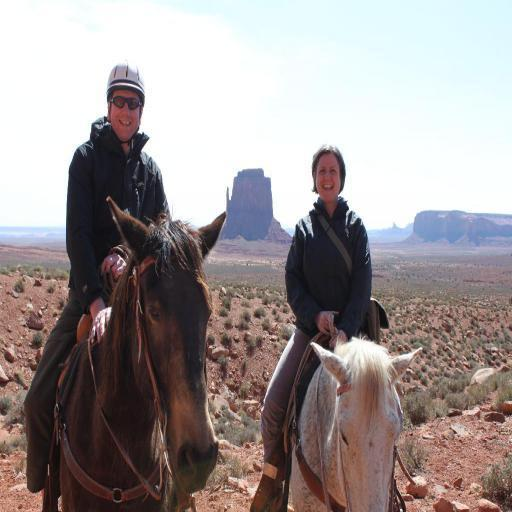horse: (58, 194, 228, 512), (288, 330, 424, 512)
